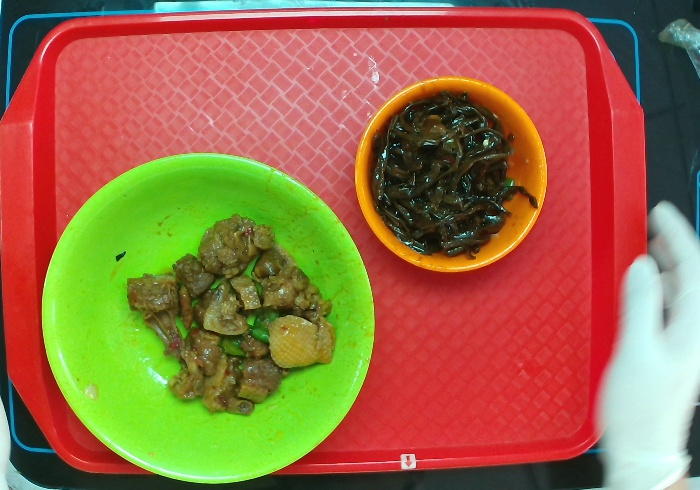YKMZ-Ju_Se_Yuan_Wan: (351, 75, 549, 272)
YKMZ-Lv_Se_Tang_Wan: (37, 147, 379, 490)
